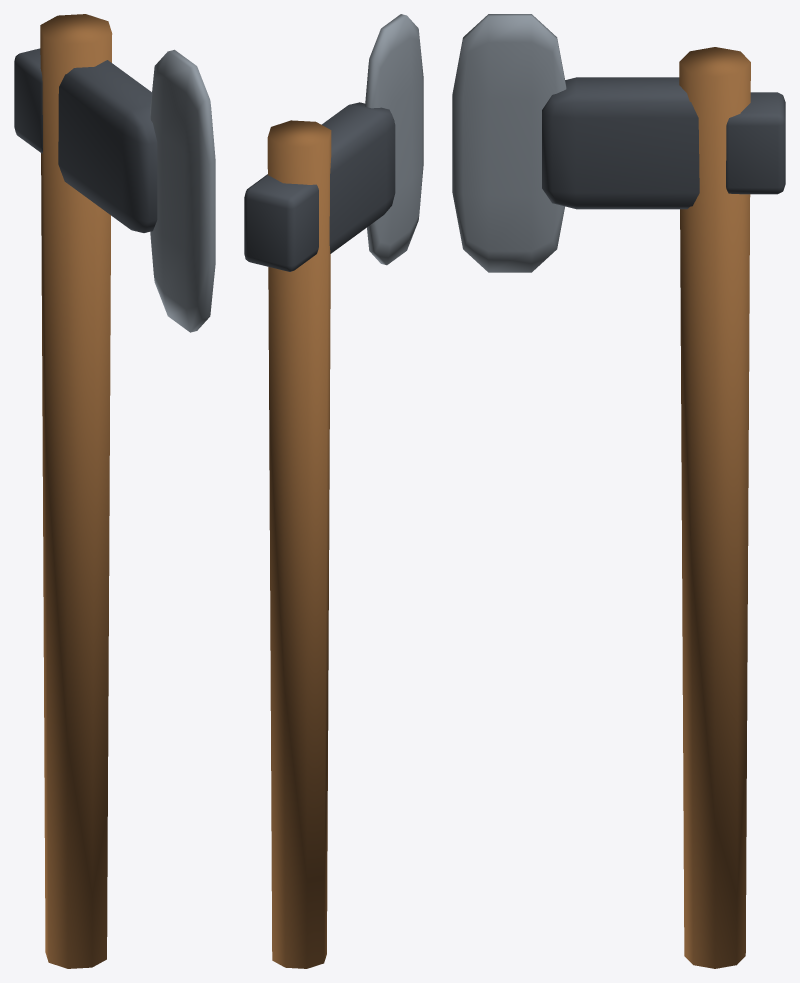
The model's file is weapon_kampak.glb.
3 views of the same model, side by side, from view 1: azimuth 30°, elevation 25°; view 2: azimuth 150°, elevation 25°; view 3: azimuth 270°, elevation 25° (orthographic). The views are drawn at different scales.
Parts seen in each view (by area): view 1: pickup_kampak; view 2: pickup_kampak; view 3: pickup_kampak.
Part boxes in pixels (<box>): pickup_kampak: <box>14,14,215,968</box>; pickup_kampak: <box>244,14,423,968</box>; pickup_kampak: <box>452,14,785,968</box>.
Bounding box in the file's own units: 0.056 × 0.81 × 0.26.
